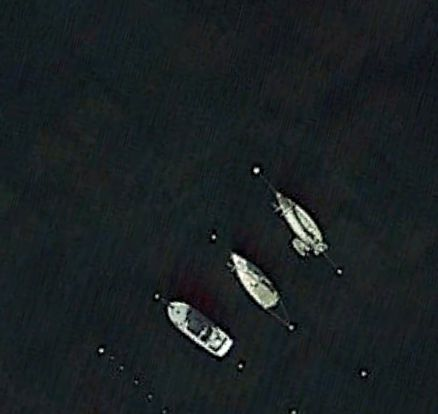boat: (158, 296, 236, 360), (272, 188, 328, 256), (230, 249, 283, 313)
